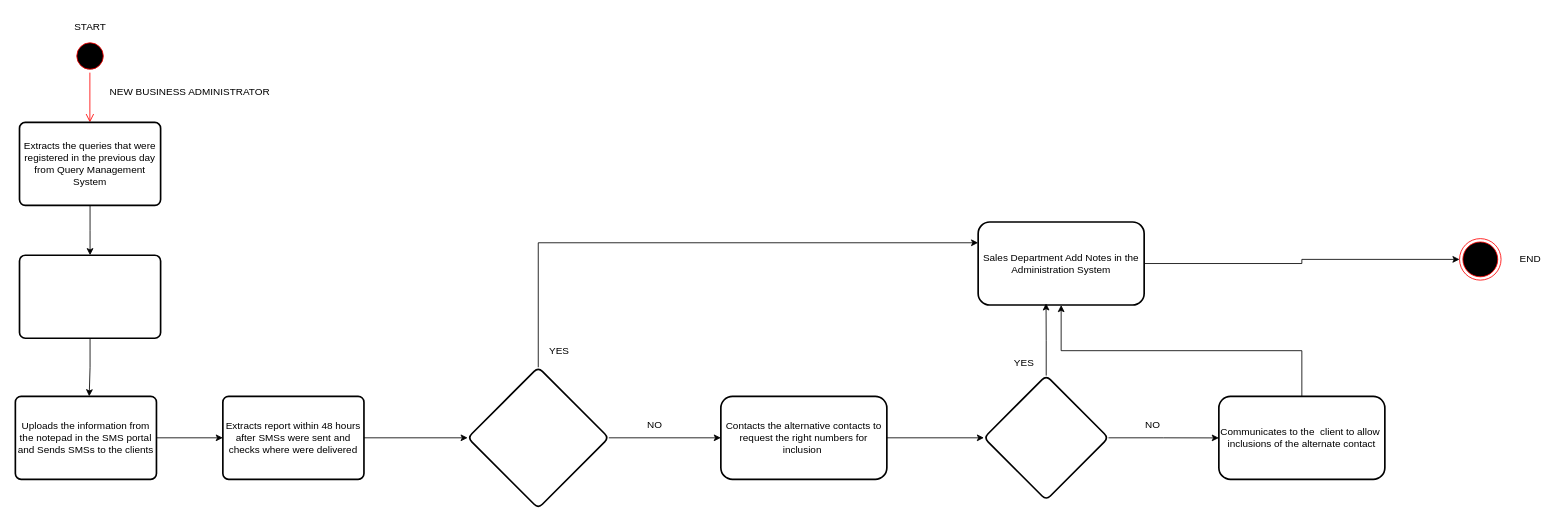
Some shapes in this 1565 by 523 pixel diagram are drawn without their labels. Here are the shapes that lost their labels. From the top down, the centre of each, then its label:
At (89,296): "Identifies queries that are open (Unresolved Queries)".
At (537,437): "Is SMS Delivered?".
At (1046,437): "Is alternative contact available to provide accurate contact?".
